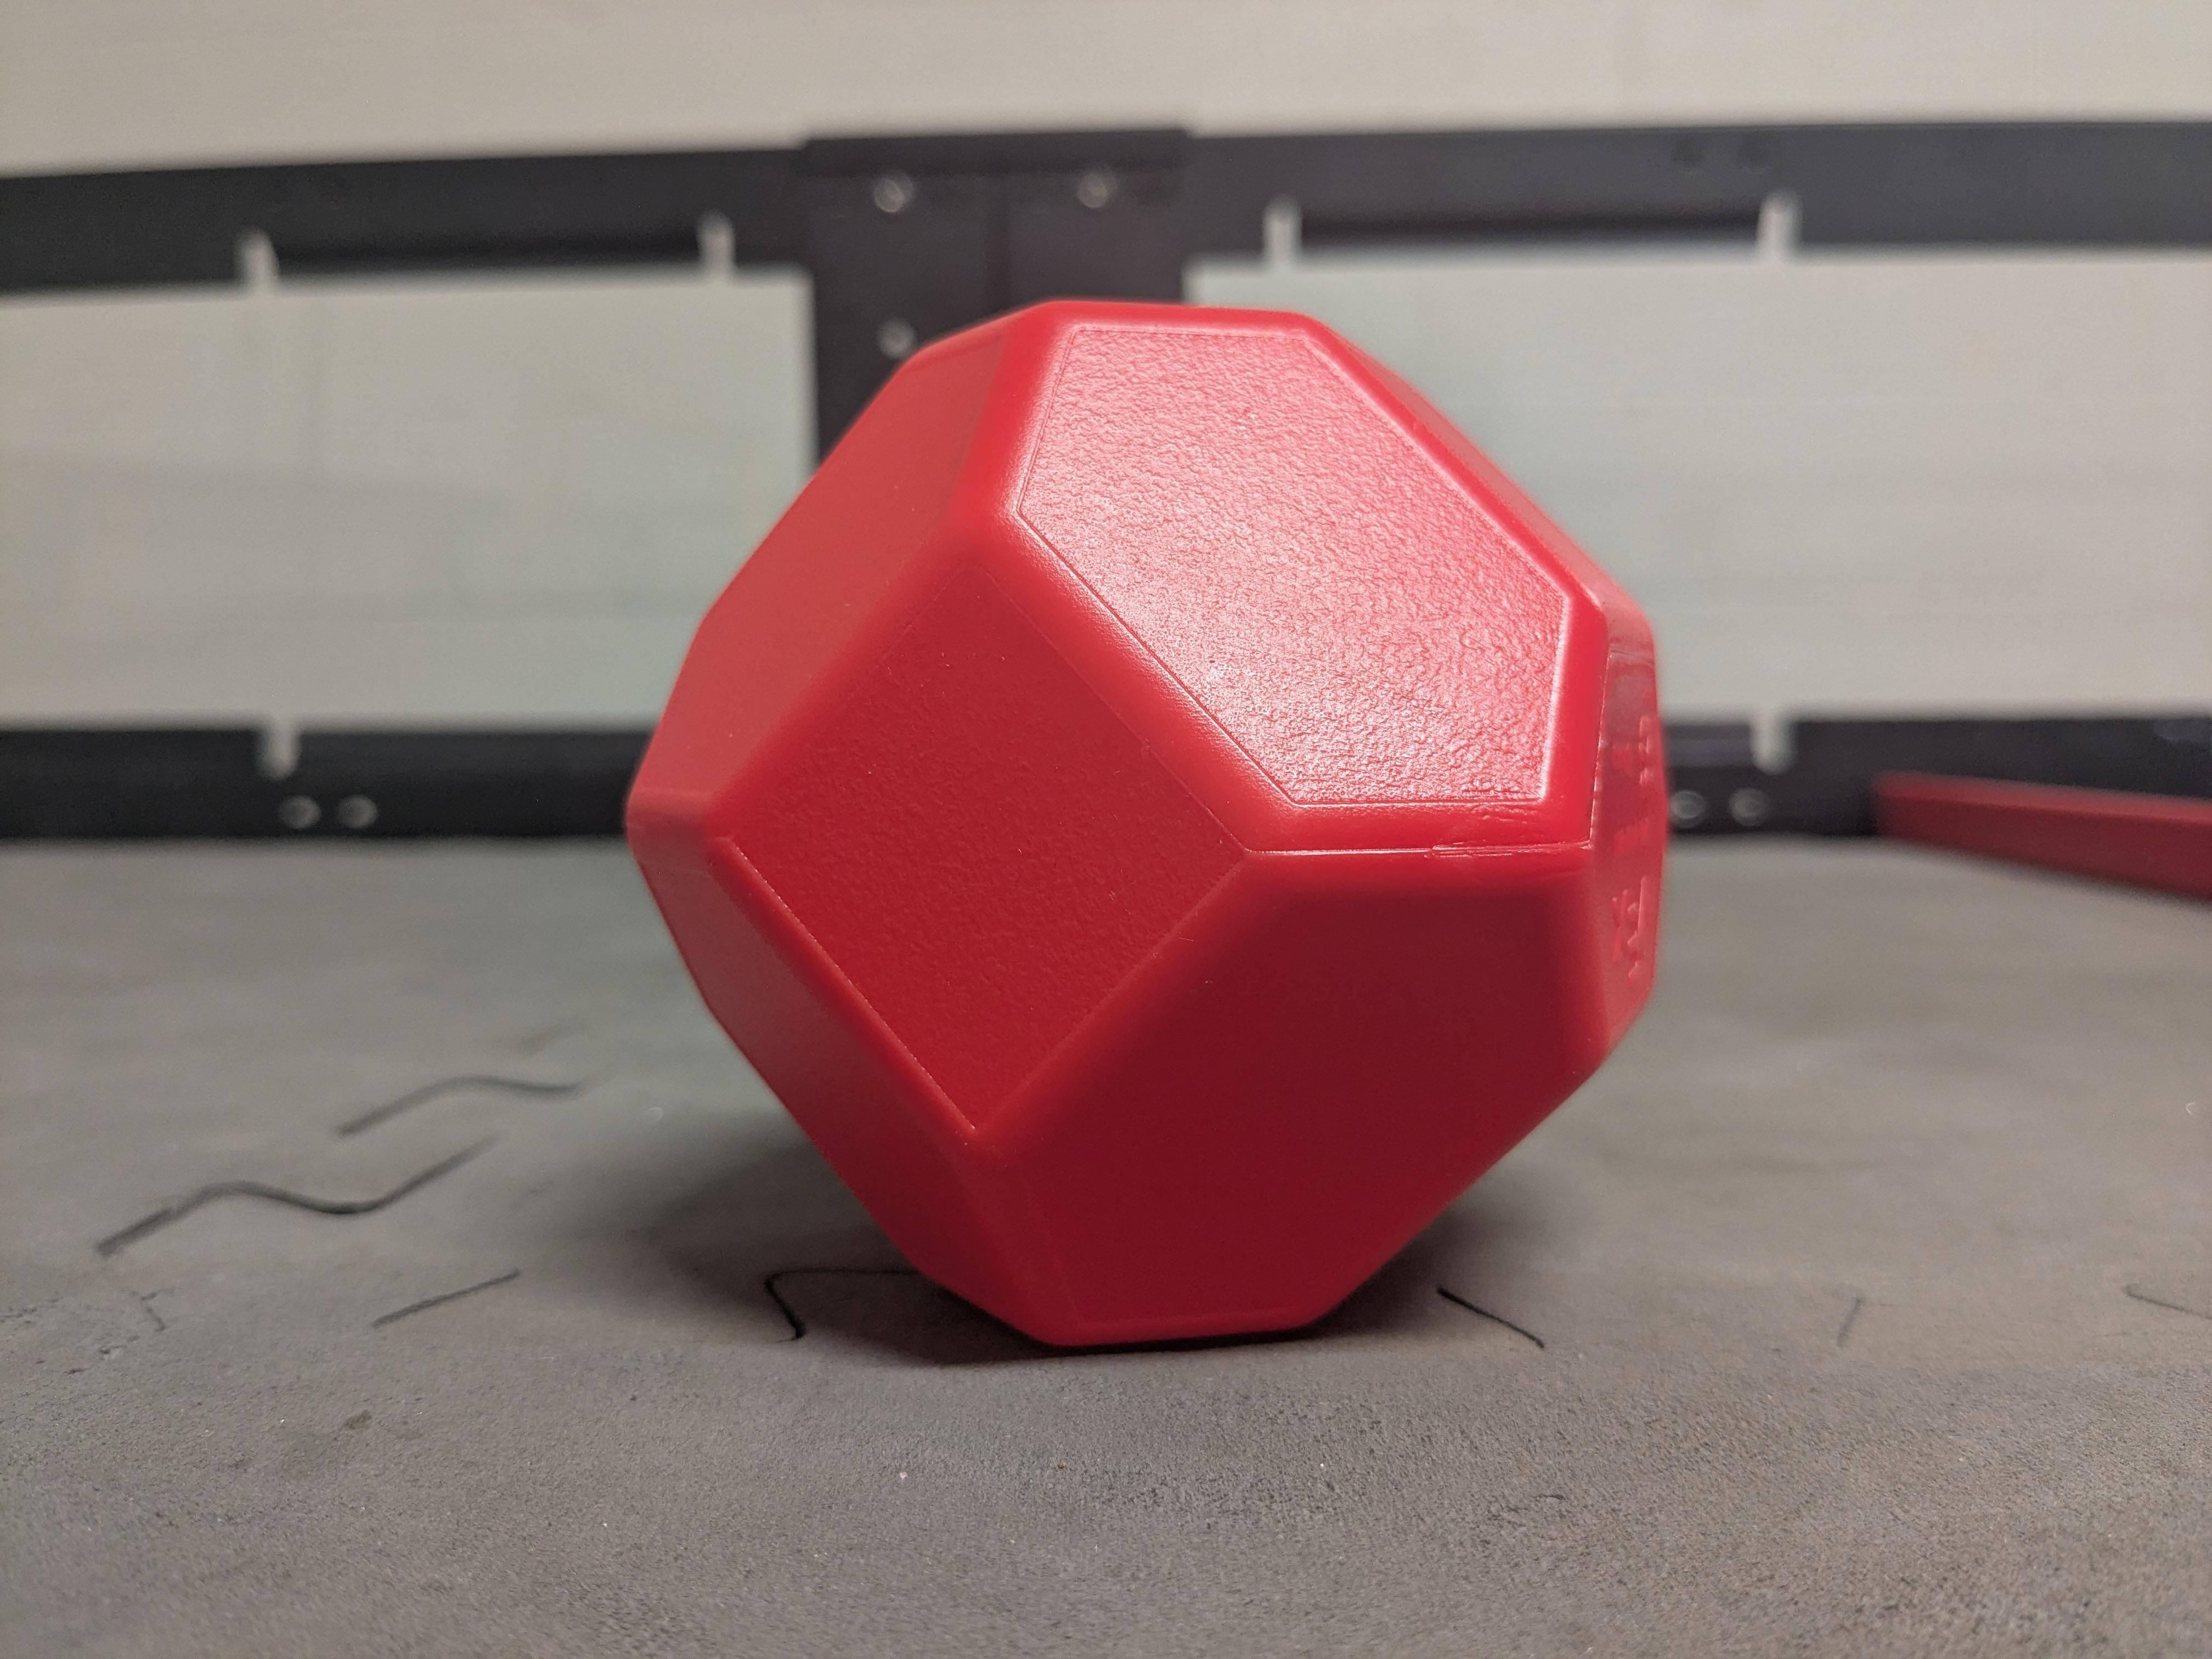Vex-Pieces-RED: (629, 301, 1663, 1344)
